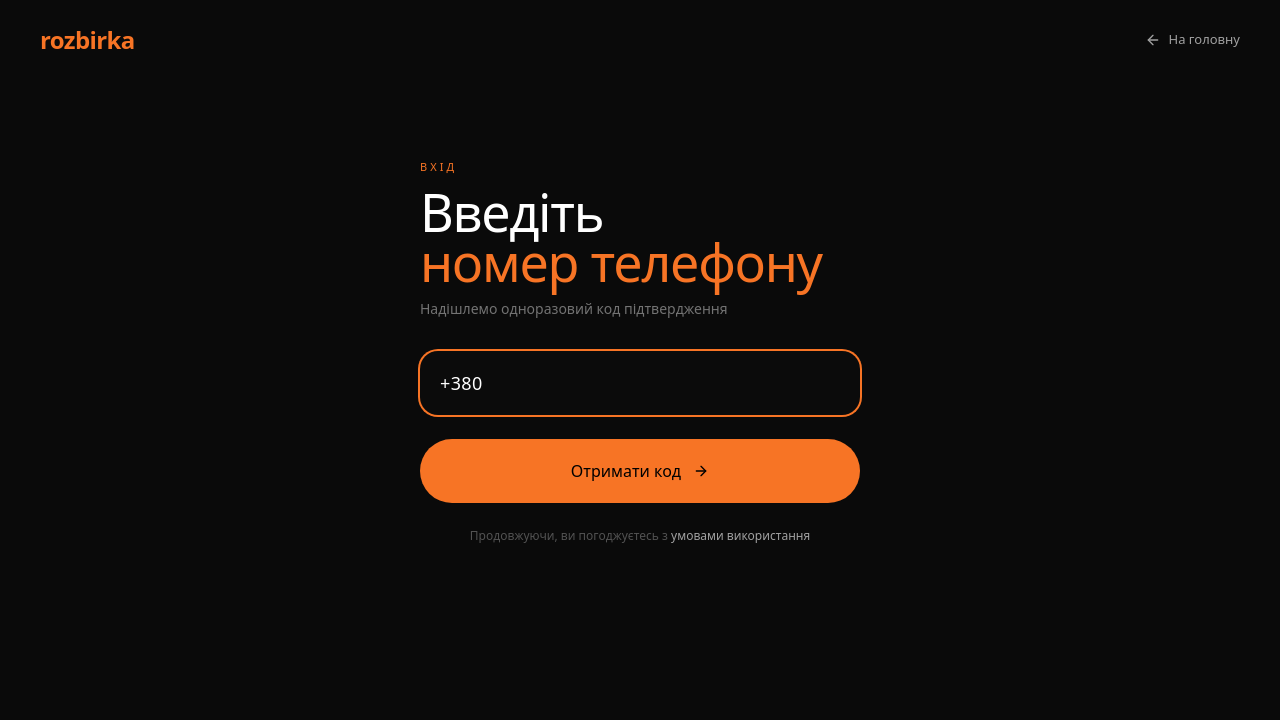
Test: shows a network fallback without leaking transport details
Step 1. Type "+380 50 111 22 33" into the field named "Номер телефону" → [640, 383], box [420, 351, 860, 415]
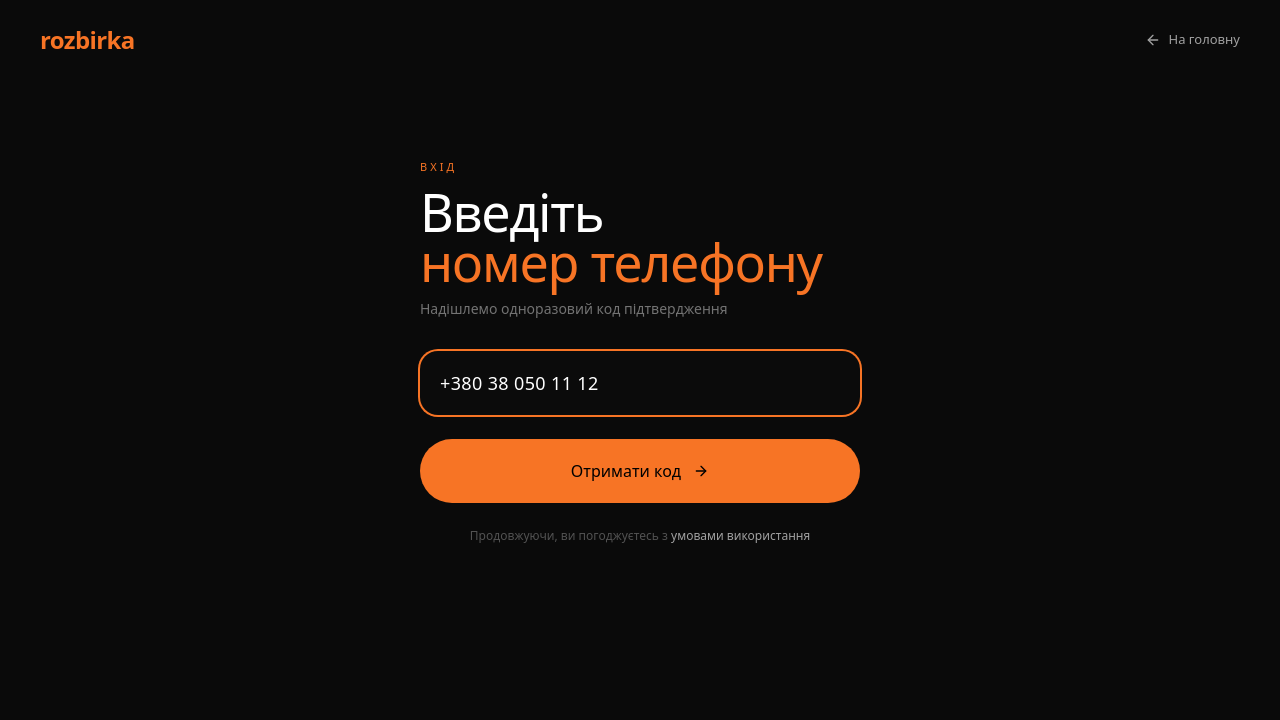
Step 2. Click the button "Отримати код" → [640, 471], box [420, 439, 860, 503]
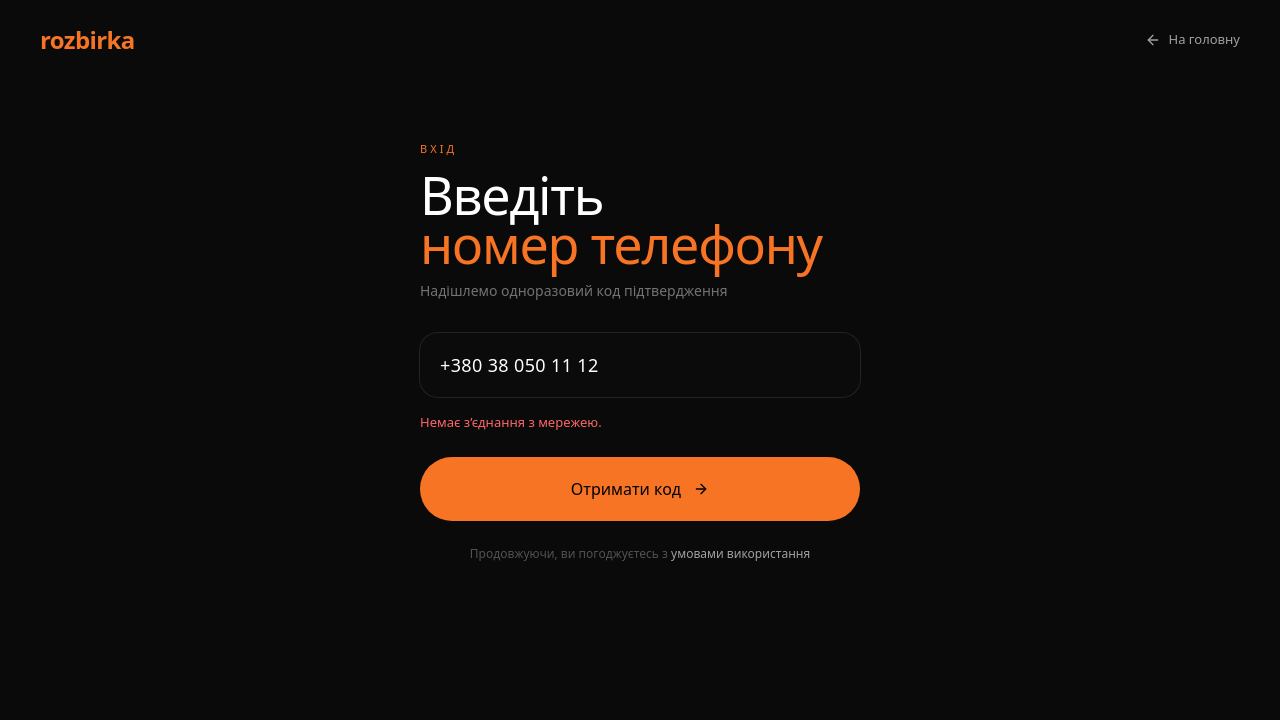
Expected: the message does not show "10.0.0.7", [420, 413, 602, 431]
Expected: the message reads "Немає з’єднання з мережею.", [420, 413, 602, 431]
